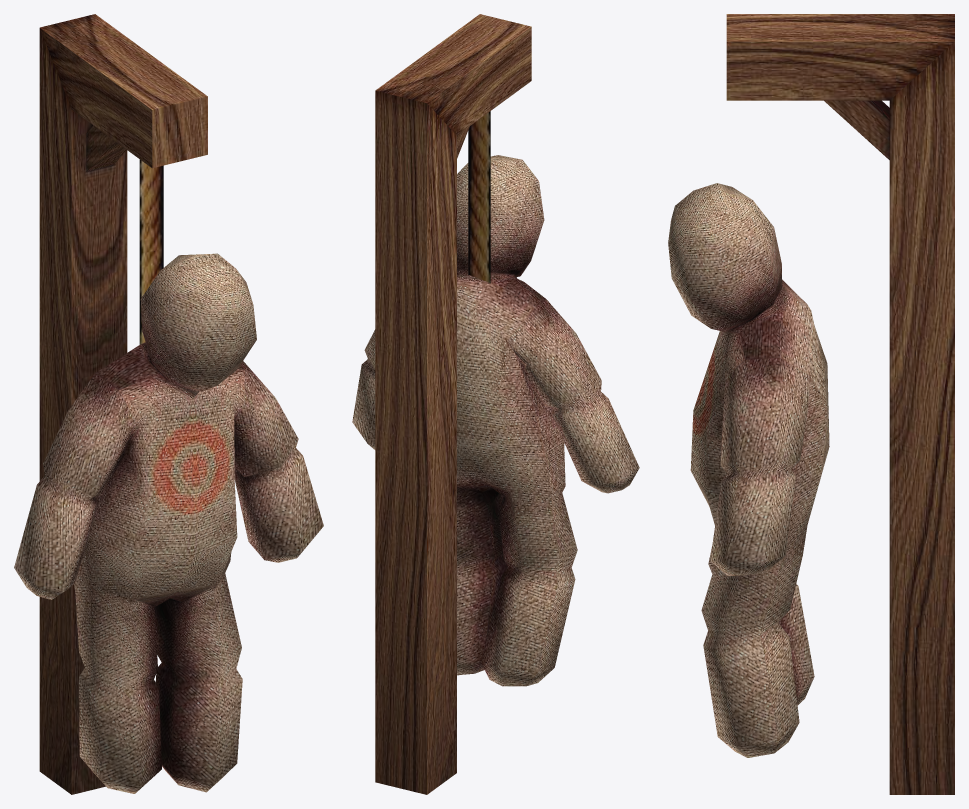
Rendered from dummy_applied.fbx.
The picture shows the model from 3 angles, left to right: view 1: azimuth 30°, elevation 25°; view 2: azimuth 150°, elevation 25°; view 3: azimuth 270°, elevation 25°; orthographic projection. The views are drawn at different scales.
Visible parts, largest first — view 1: misc_practiceDummy; view 2: misc_practiceDummy; view 3: misc_practiceDummy.
Part boxes in pixels (box(x1,y1,x2,y2)): misc_practiceDummy: box(14, 14, 323, 794); misc_practiceDummy: box(352, 14, 639, 794); misc_practiceDummy: box(668, 14, 954, 794).
Bounding box in the file's own units: 526 × 1275 × 440.
